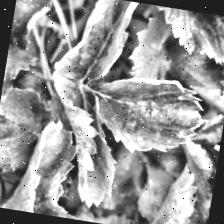Powdery Mildew Leaf: (32, 71, 132, 212), (78, 67, 208, 164), (52, 0, 143, 89), (135, 156, 205, 224)
